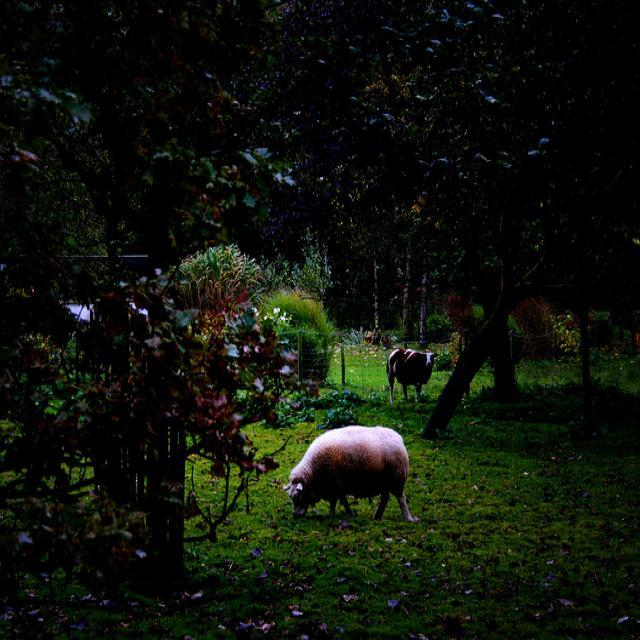cow: (279, 420, 418, 523), (383, 347, 439, 403)
